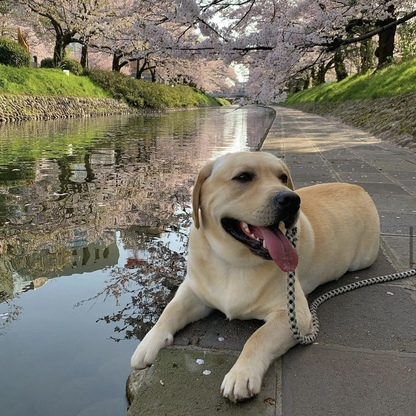labrado: (127, 145, 386, 408)
